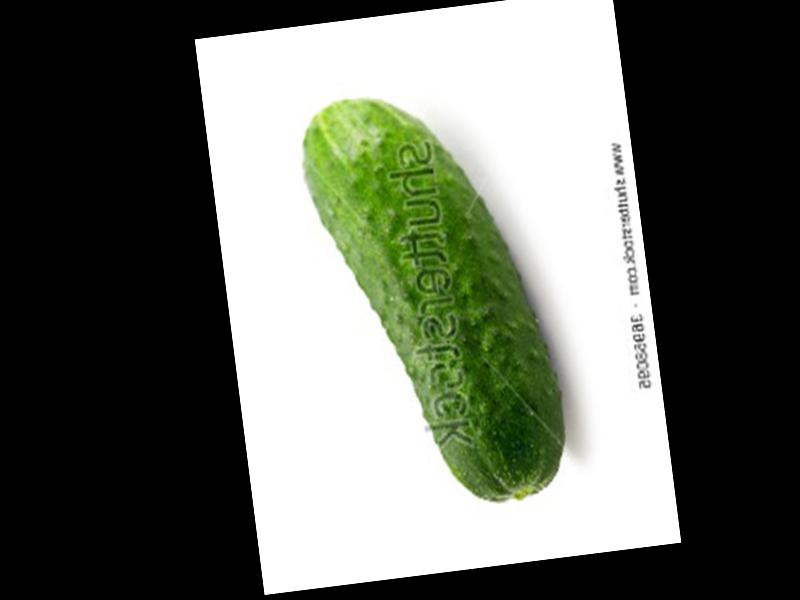Cucumber: (294, 78, 574, 520)
